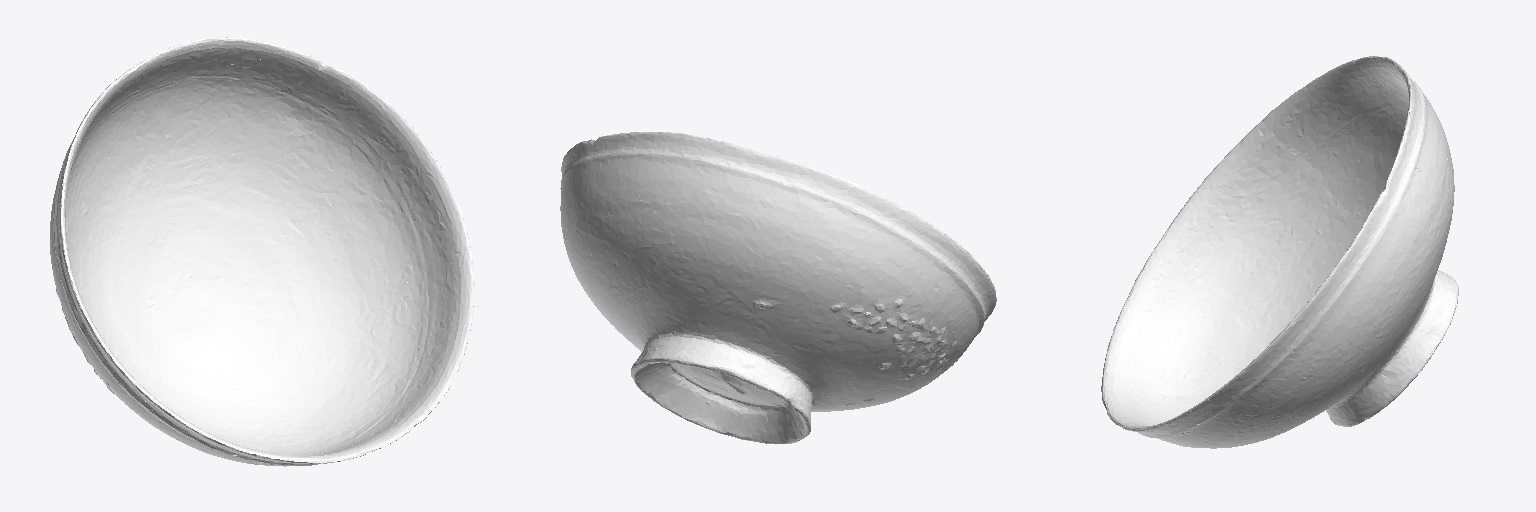
The model's file is Mia_001085_MinaiBowl_32k.obj.
3 renders of one model, left to right at view 1: azimuth 30°, elevation 25°; view 2: azimuth 150°, elevation 25°; view 3: azimuth 270°, elevation 25°, orthographic.
Bounding box in the file's own units: 2.68 × 2.16 × 2.09.